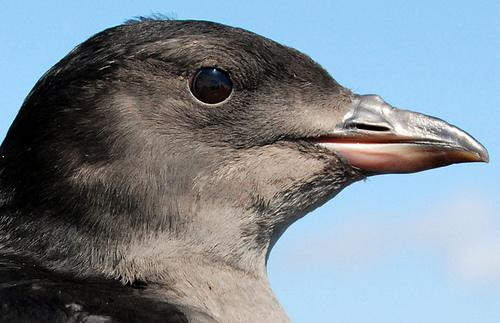008.Rhinoceros_Auklet: (1, 17, 492, 323)
